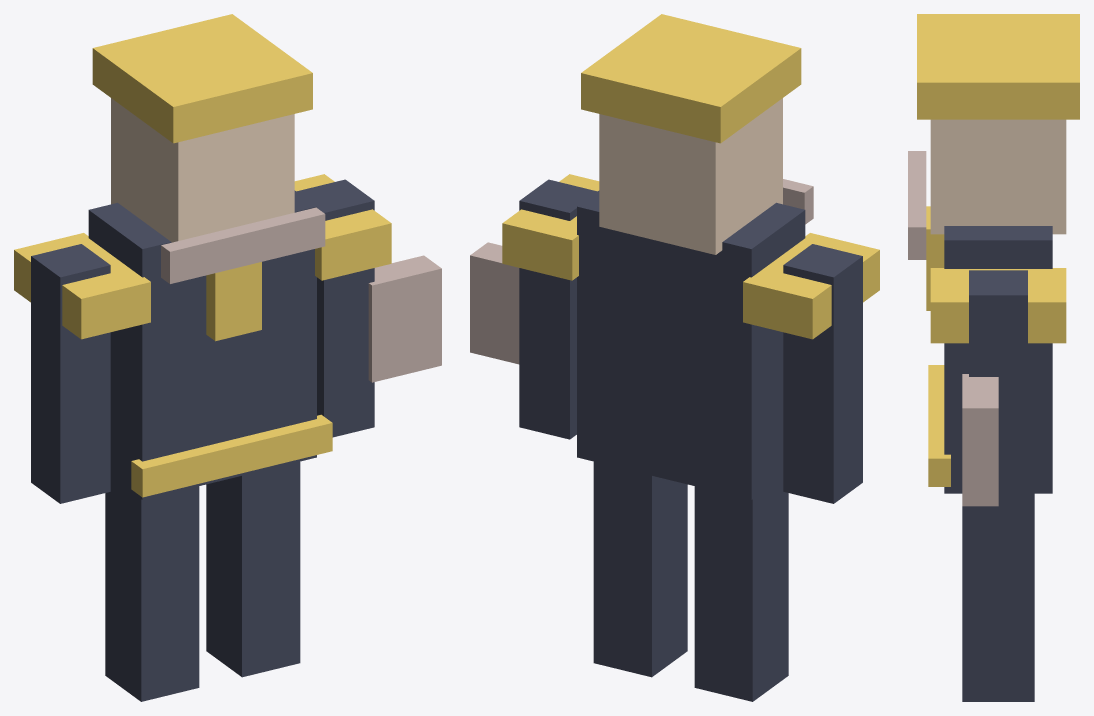
Rendered from 05_luma_riftwalker_broker_from_toll.glb.
3 renders of one model, left to right at view 1: azimuth 30°, elevation 25°; view 2: azimuth 150°, elevation 25°; view 3: azimuth 270°, elevation 25°, orthographic.
Visible parts, largest first — view 1: Luma Riftwalker, Broker from Toll; view 2: Luma Riftwalker, Broker from Toll; view 3: Luma Riftwalker, Broker from Toll.
Part boxes in pixels (x1,y1,x2,y2): Luma Riftwalker, Broker from Toll: [14, 14, 441, 701]; Luma Riftwalker, Broker from Toll: [470, 14, 879, 701]; Luma Riftwalker, Broker from Toll: [908, 14, 1079, 701].
Bounding box in the file's own units: 1.06 × 1.63 × 0.4133.
